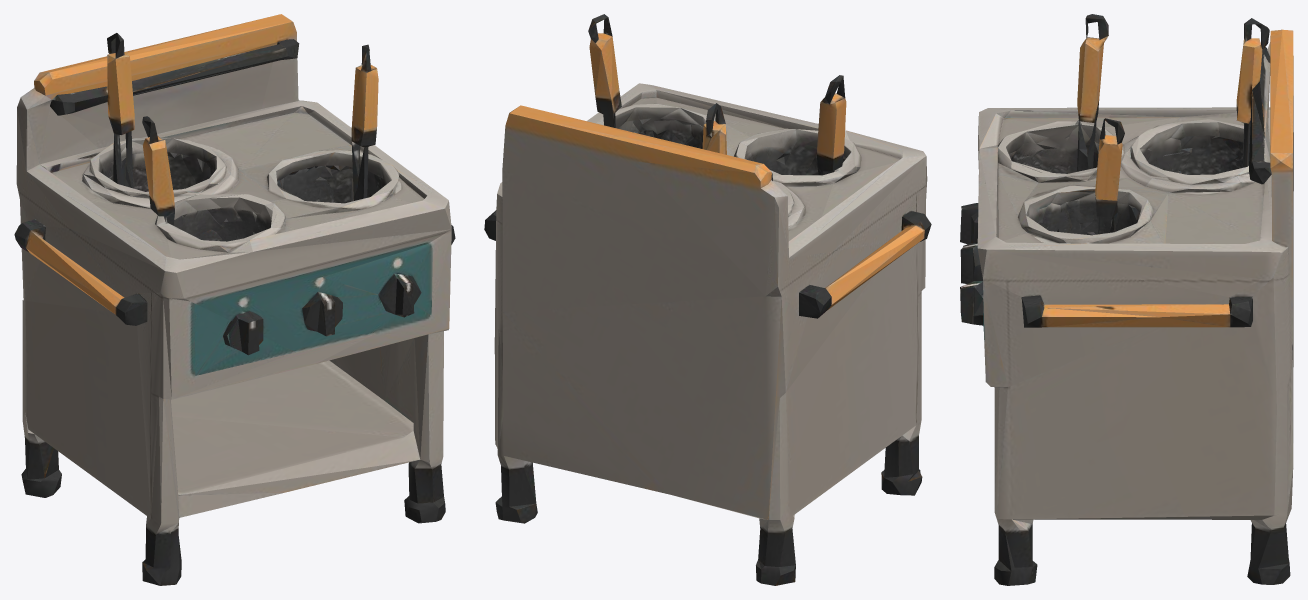
File: rounded-restaurant-noodle-boiler-empty.glb
The picture shows the model from 3 angles, left to right: view 1: azimuth 30°, elevation 25°; view 2: azimuth 150°, elevation 25°; view 3: azimuth 270°, elevation 25°; orthographic projection. The views are drawn at different scales.
Visible parts, largest first — view 1: Mesh_0; view 2: Mesh_0; view 3: Mesh_0.
Boxes of the visible parts, <box> form: Mesh_0: <box>14,14,455,585</box>; Mesh_0: <box>484,14,931,585</box>; Mesh_0: <box>960,14,1293,585</box>.
Size of the model in its own units: 0.65 by 0.8311 by 0.541.
1 material, 1 textured.
